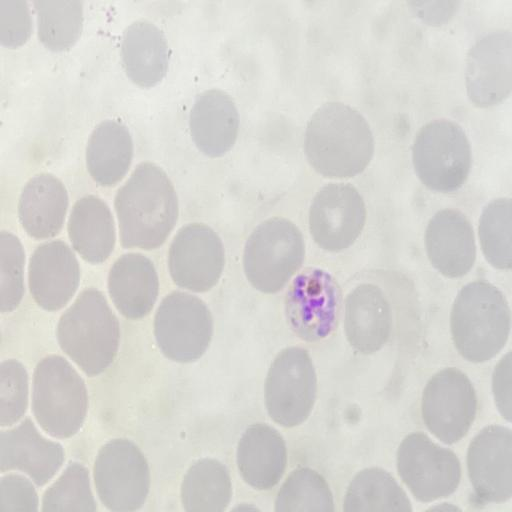Infected: (282, 268, 345, 342)
Uninfected: (113, 163, 179, 251), (56, 287, 120, 377), (303, 101, 373, 179), (451, 279, 512, 364), (32, 354, 90, 440), (244, 214, 304, 291), (397, 433, 460, 506), (424, 366, 479, 447), (153, 295, 215, 365), (308, 181, 368, 253), (264, 346, 315, 428), (414, 120, 470, 193), (107, 250, 162, 322), (91, 442, 147, 512), (168, 224, 227, 290), (121, 19, 175, 90), (82, 119, 136, 185), (237, 420, 287, 491), (427, 208, 478, 277), (468, 424, 512, 503), (191, 86, 239, 157), (30, 243, 80, 311), (17, 175, 70, 238), (69, 194, 117, 263), (347, 285, 392, 357), (181, 457, 230, 512)
